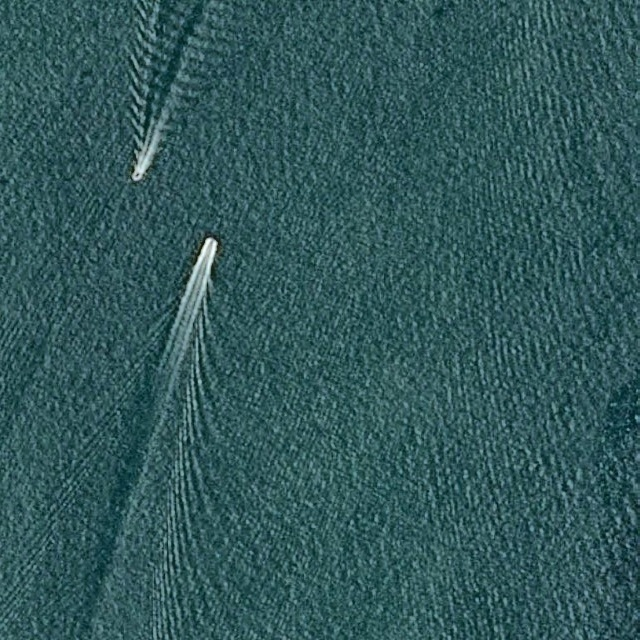wake: (84, 8, 237, 200)
